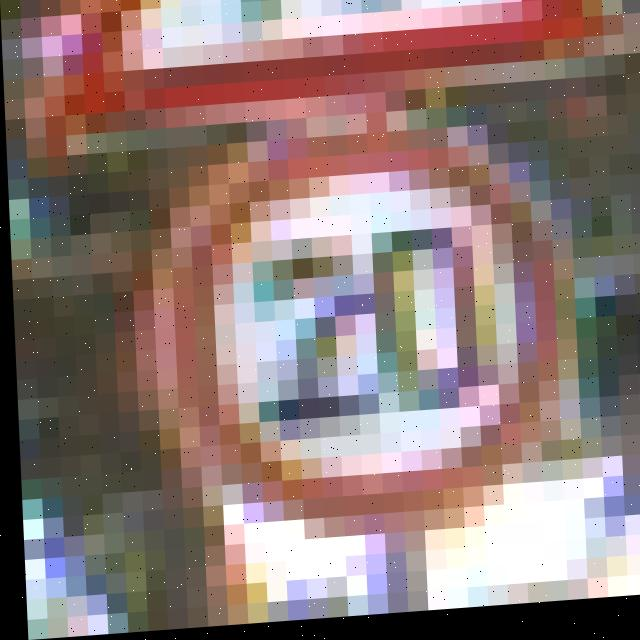speed_limit_20: (124, 100, 594, 558)
